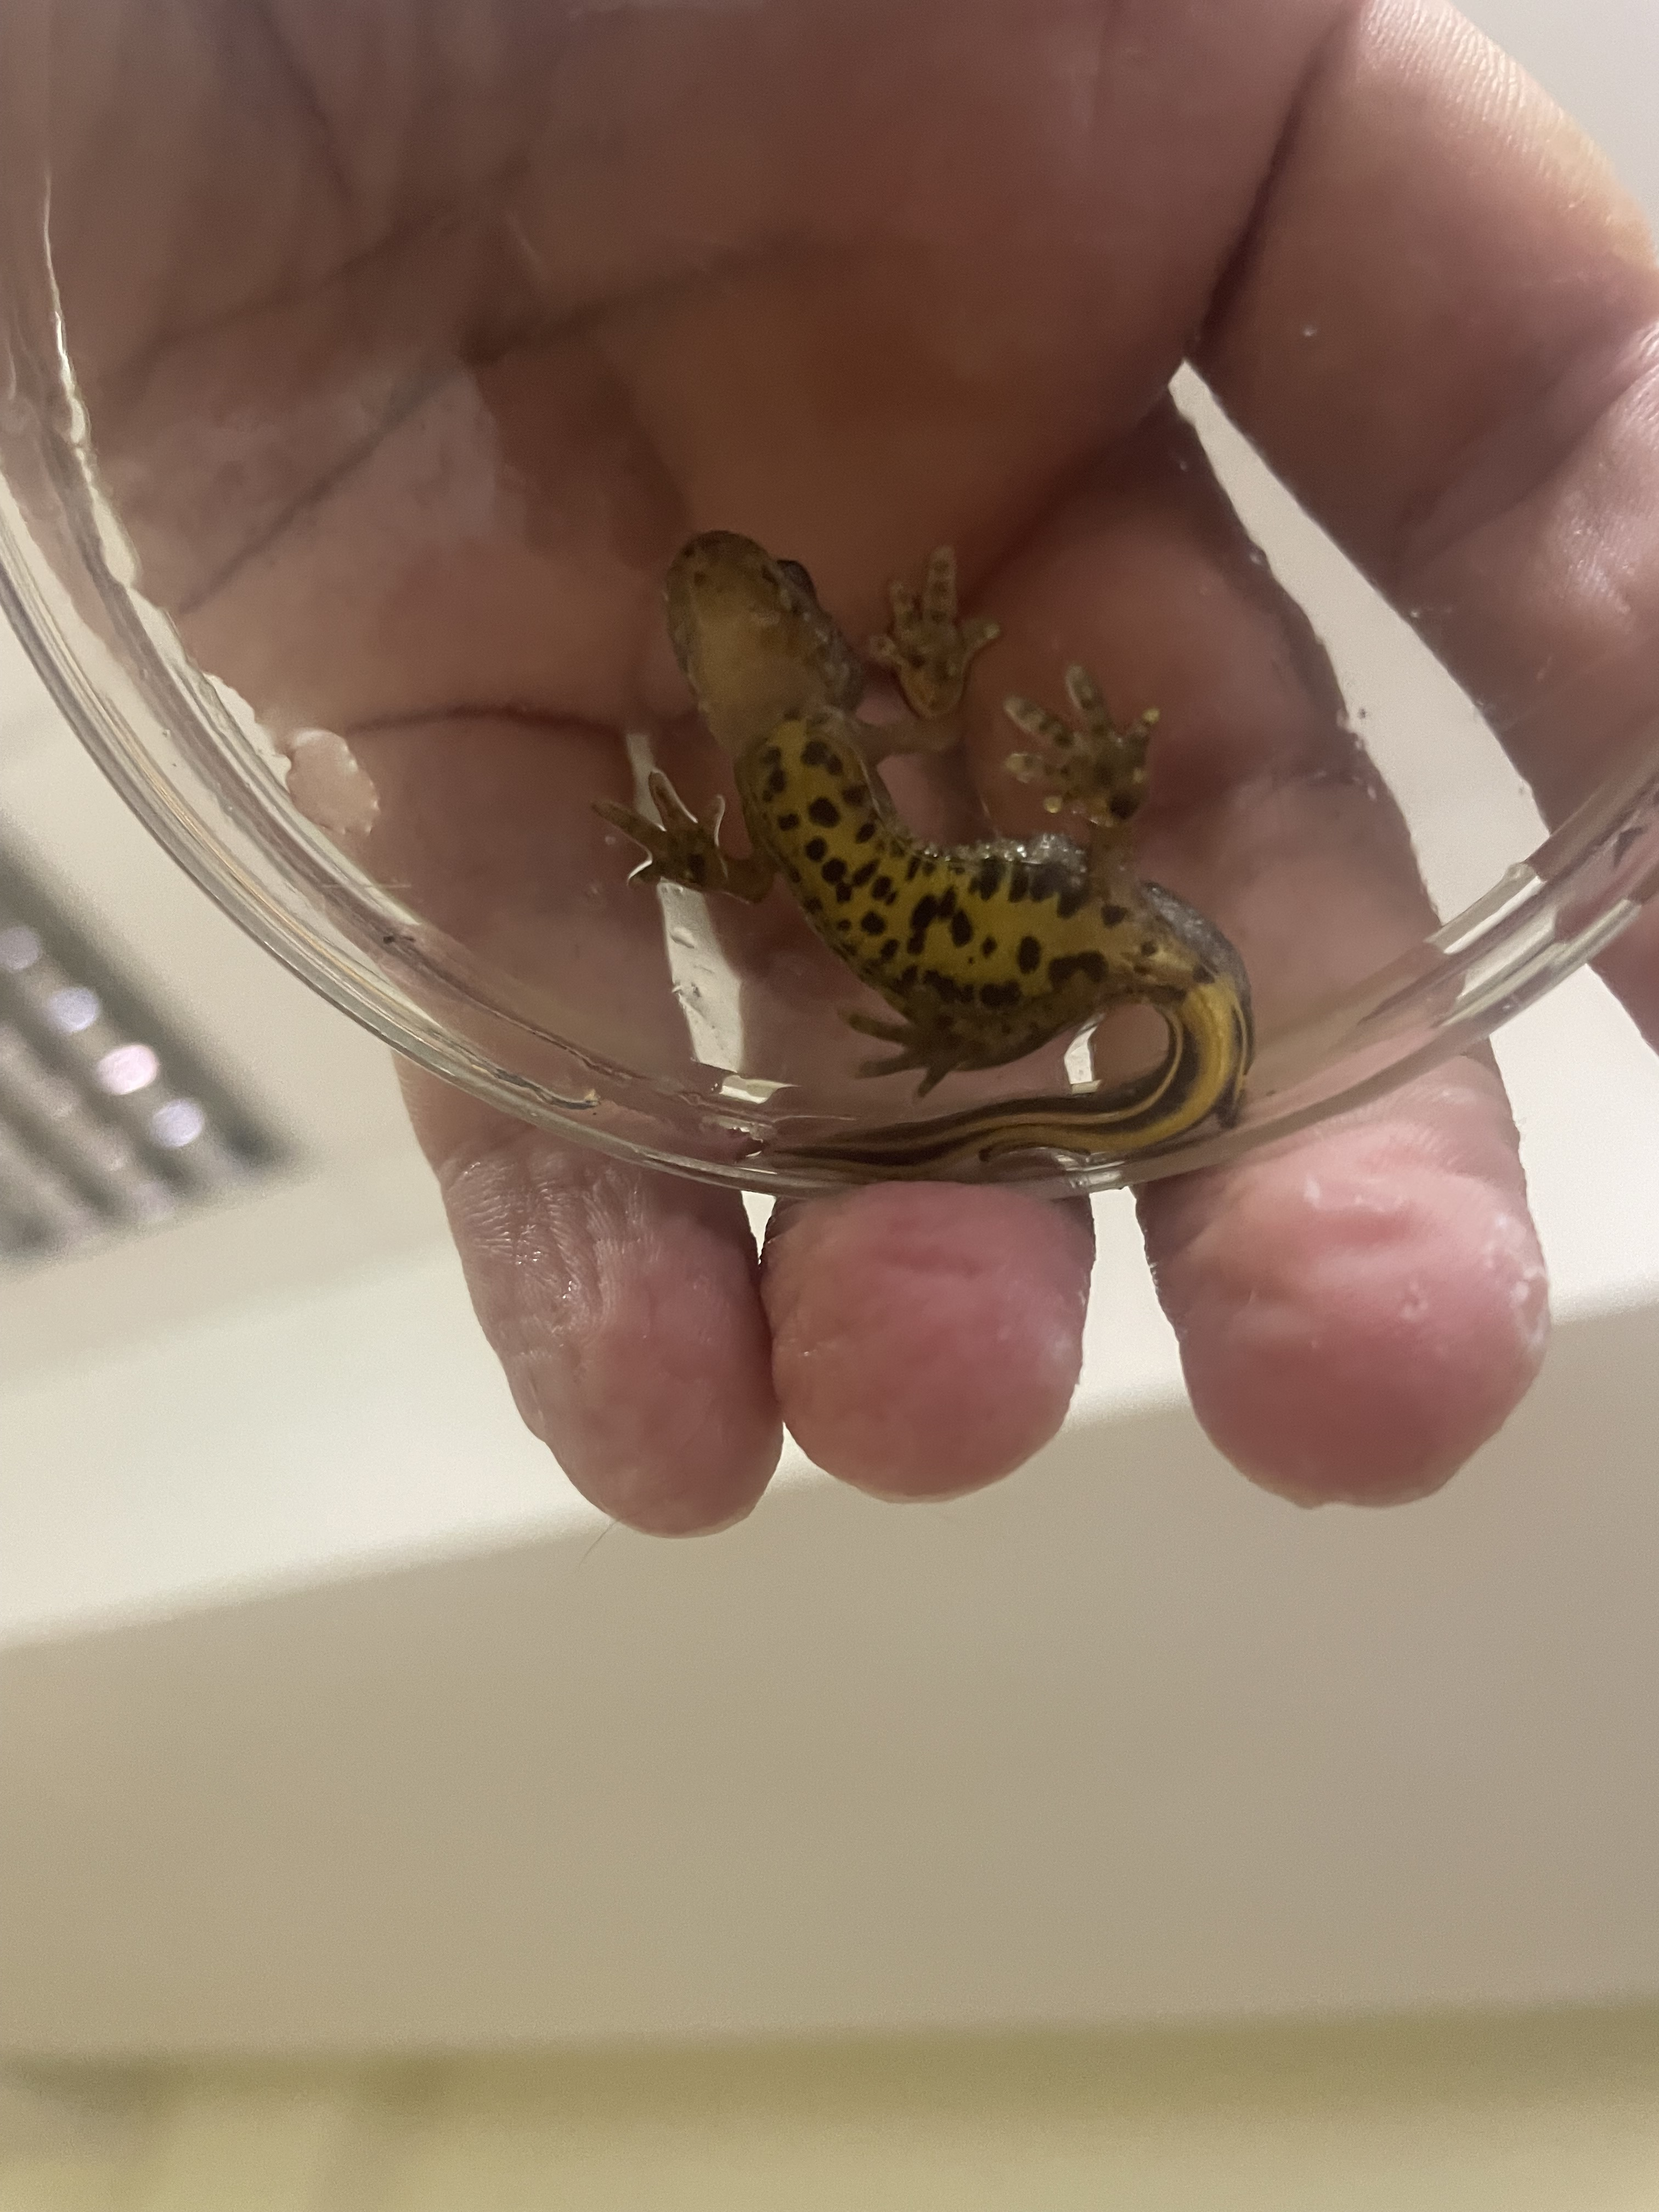Karelin_newt: (774, 770, 1082, 1026)
